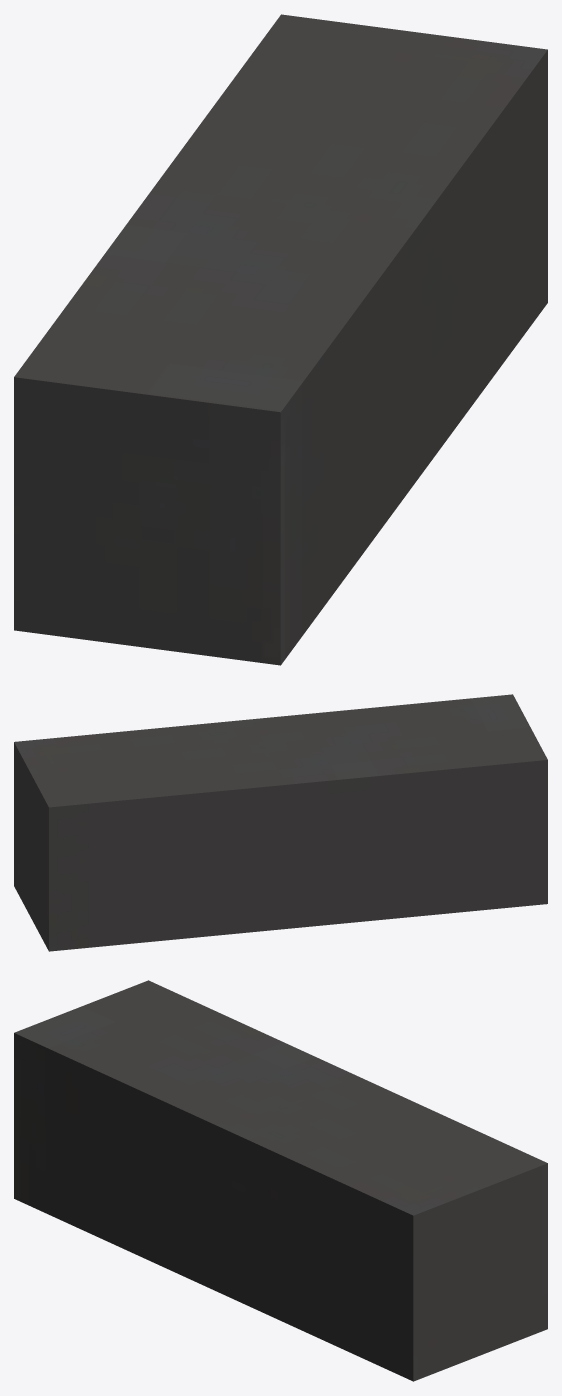
Rendered from main_frame__front_down_strut.glb.
3 views of the same model, one above another, from view 1: azimuth 30°, elevation 25°; view 2: azimuth 150°, elevation 25°; view 3: azimuth 270°, elevation 25° (orthographic). The views are drawn at different scales.
Parts seen in each view (by area): view 1: world; view 2: world; view 3: world.
Part boxes in pixels (x1=…): world: x1=14, y1=14, x2=547, y2=665; world: x1=14, y1=694, x2=547, y2=951; world: x1=14, y1=980, x2=547, y2=1381.
Bounding box in the file's own units: 0.1673 × 0.055 × 0.1604.
Materials: 1 (1 with a texture image).
